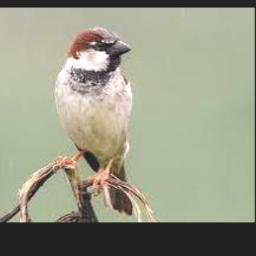Sparrow: (53, 26, 134, 215)
